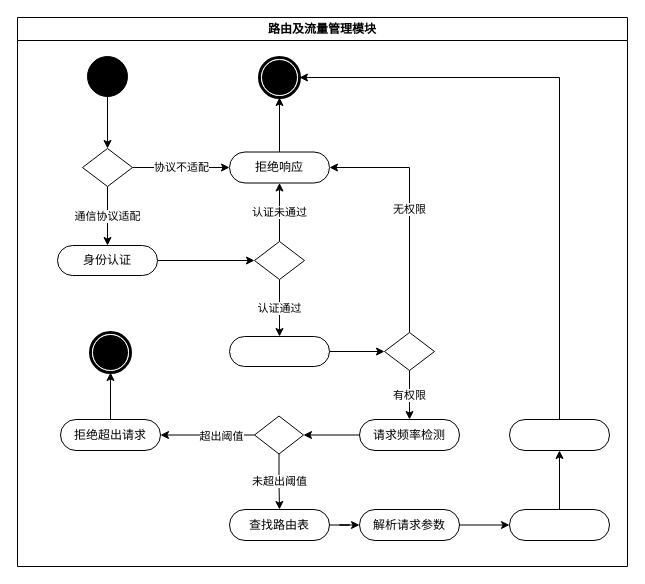
Image size: 645x584. Some labels were removed from this diagram. Here are the shapes that lost their labels. From the top down, the centre of each, then its label:
At (279,351): "权限认证".
At (559,434): "请求响应转发".
At (559,524): "代理请求".
